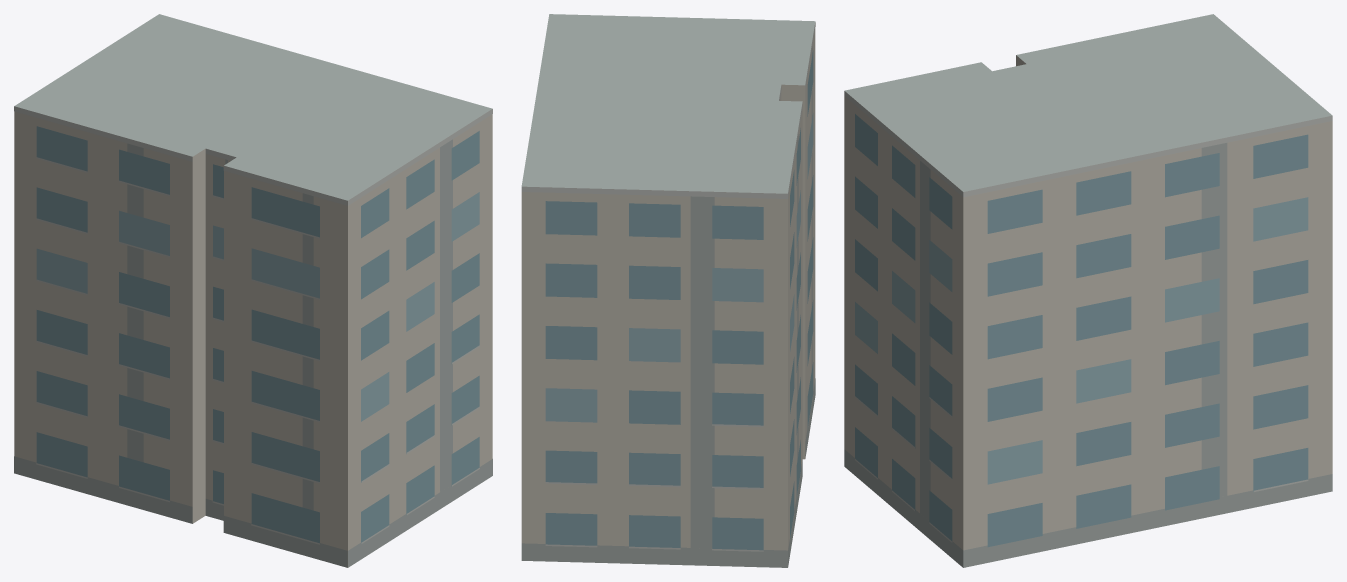
File: survey-upis-32701594.glb
3 renders of one model, left to right at view 1: azimuth 30°, elevation 25°; view 2: azimuth 150°, elevation 25°; view 3: azimuth 270°, elevation 25°, orthographic. The views are drawn at different scales.
Visible parts, largest first — view 1: survey-upis-32701594.tmp; view 2: survey-upis-32701594.tmp; view 3: survey-upis-32701594.tmp.
Part boxes in pixels (x1=…): survey-upis-32701594.tmp: x1=14, y1=14, x2=492, y2=567; survey-upis-32701594.tmp: x1=521, y1=14, x2=815, y2=567; survey-upis-32701594.tmp: x1=844, y1=14, x2=1332, y2=567.
Bounding box in the file's own units: 17.59 × 17.3 × 20.38.
